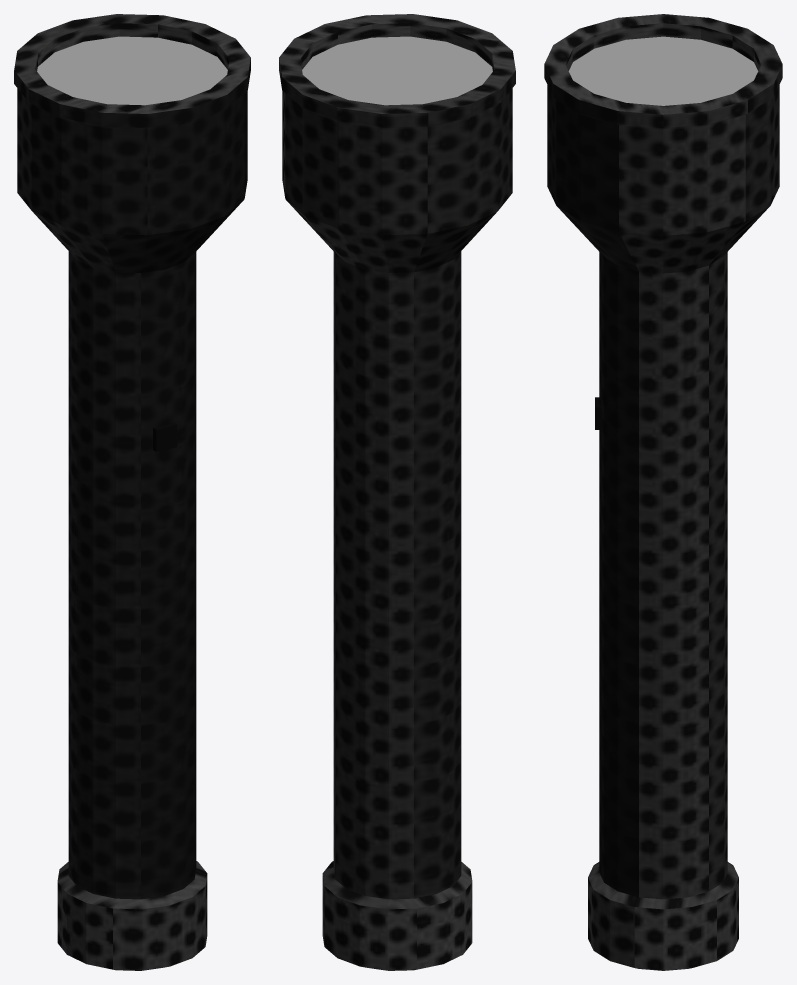
The model's file is Flashlight.fbx.
The picture shows the model from 3 angles, left to right: view 1: azimuth 30°, elevation 25°; view 2: azimuth 150°, elevation 25°; view 3: azimuth 270°, elevation 25°; orthographic projection.
Visible parts, largest first — view 1: FlashLight; view 2: FlashLight; view 3: FlashLight.
Boxes of the visible parts, x1,y1,x2,y2 form: FlashLight: (14, 14, 250, 970); FlashLight: (279, 14, 515, 970); FlashLight: (544, 14, 782, 970).
Size of the model in its own units: 316 by 1284 by 316.
